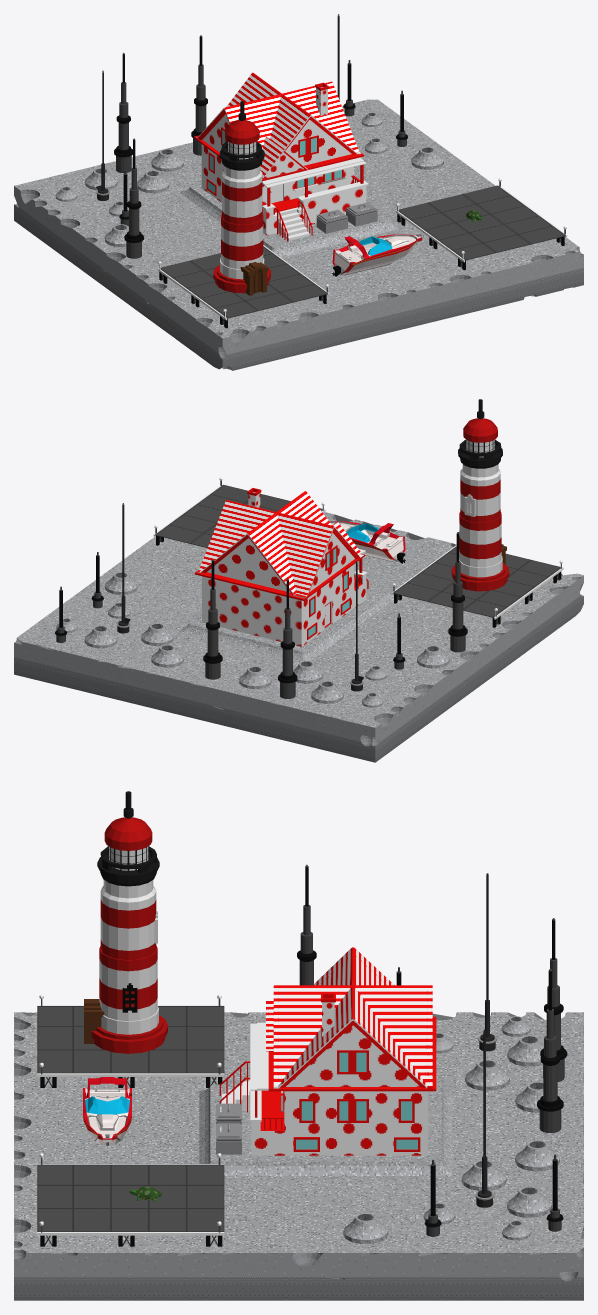
The picture shows the model from 3 angles, top to bottom: view 1: azimuth 30°, elevation 25°; view 2: azimuth 150°, elevation 25°; view 3: azimuth 270°, elevation 25°; orthographic projection. The views are drawn at different scales.
Parts seen in each view (by area): view 1: Cube.027, Cube.196, OBJRANDOM_LIGHTHOUSE, Cube.026, Cube.025, Cube.028, VEHICLES_BOAT, Cylinder.021, Cylinder.020, Cylinder.017, Cube.029, Cube.030 (+4 smaller); view 2: Cube.027, Cube.196, OBJRANDOM_LIGHTHOUSE, Cube.025, Cube.028, Cube.026, VEHICLES_BOAT, Cylinder.021, Cylinder.017, Cylinder.020, Cylinder.031, Cylinder.024 (+7 smaller); view 3: Cube.027, Cube.196, OBJRANDOM_LIGHTHOUSE, Cube.026, Cube.025, Cube.028, VEHICLES_BOAT, Cylinder.017, Cylinder.020, Cylinder.021, Cylinder.031, Cylinder.033 (+7 smaller).
Part boxes in pixels (box(x1,y1,x2,y2)): Cube.027: box(14, 99, 583, 370); Cube.196: box(193, 72, 368, 241); OBJRANDOM_LIGHTHOUSE: box(213, 101, 270, 295); Cube.026: box(395, 178, 567, 270); Cube.025: box(157, 237, 329, 328); Cube.028: box(180, 183, 399, 257); VEHICLES_BOAT: box(332, 233, 422, 276); Cylinder.021: box(124, 138, 143, 258); Cylinder.020: box(114, 52, 132, 173); Cylinder.017: box(191, 35, 207, 155); Cube.029: box(316, 209, 347, 233); Cube.030: box(346, 202, 377, 226); Cube.027: box(14, 512, 583, 762); Cube.196: box(194, 488, 368, 646); OBJRANDOM_LIGHTHOUSE: box(451, 399, 509, 591); Cube.025: box(391, 545, 563, 627); Cube.028: box(179, 585, 393, 662); Cube.026: box(153, 477, 325, 547); VEHICLES_BOAT: box(329, 521, 405, 563); Cylinder.021: box(448, 532, 467, 652); Cylinder.017: box(203, 559, 222, 679); Cylinder.020: box(278, 578, 297, 698); Cylinder.031: box(84, 625, 117, 648); Cylinder.024: box(116, 503, 130, 633); Cube.027: box(14, 1012, 583, 1300); Cube.196: box(219, 947, 436, 1155); OBJRANDOM_LIGHTHOUSE: box(84, 791, 167, 1053); Cube.026: box(37, 1153, 224, 1246); Cube.025: box(37, 994, 224, 1087); Cube.028: box(199, 1084, 452, 1175); VEHICLES_BOAT: box(83, 1077, 131, 1145); Cylinder.017: box(537, 968, 563, 1132); Cylinder.020: box(540, 918, 567, 1081); Cylinder.021: box(297, 864, 316, 985); Cylinder.031: box(507, 1186, 551, 1217); Cylinder.033: box(343, 1213, 388, 1243).
Size of the model in its own units: 4000 by 2470 by 4000.
Materials: 35 (5 with a texture image).
